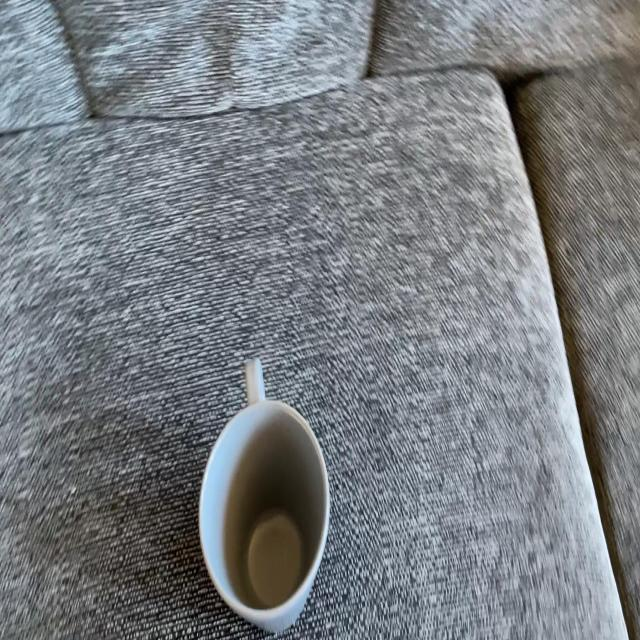cup: (197, 394, 341, 632)
